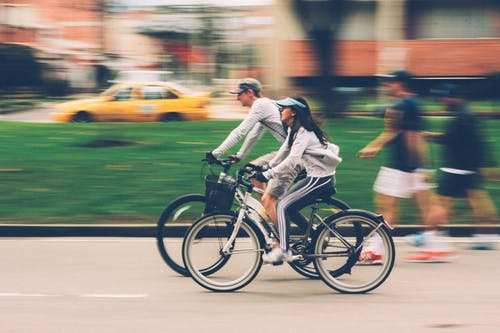bicycle: (179, 161, 398, 297)
